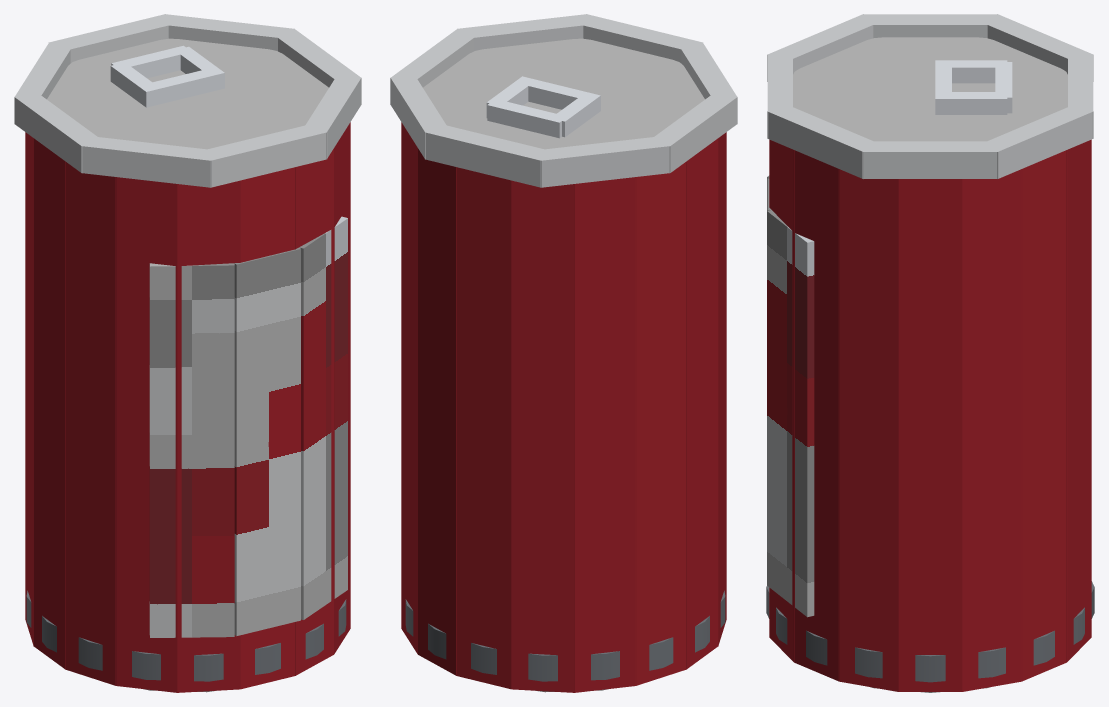
File: CMU3DDrinkEnergyDrinkCanDrinksExtraCloud.glb
The picture shows the model from 3 angles, left to right: view 1: azimuth 30°, elevation 25°; view 2: azimuth 150°, elevation 25°; view 3: azimuth 270°, elevation 25°; orthographic projection.
Parts seen in each view (by area): view 1: source front label tangent 0, hollow printed aluminium body 09, source front label tangent 1, hollow printed aluminium body 10, unbroken recessed aluminium lid, source front label tangent 2, hollow printed aluminium body 08, hollow printed aluminium body 11, hollow printed aluminium body 12, hollow printed aluminium body 13, raised upper seam 06, raised upper seam 07 (+13 smaller); view 2: hollow printed aluminium body 05, hollow printed aluminium body 06, hollow printed aluminium body 04, hollow printed aluminium body 07, hollow printed aluminium body 03, unbroken recessed aluminium lid, hollow printed aluminium body 08, hollow printed aluminium body 02, raised upper seam 04, raised upper seam 03, rolled bottom seam, hollow printed aluminium body 09 (+10 smaller); view 3: hollow printed aluminium body 00, hollow printed aluminium body 01, hollow printed aluminium body 15, hollow printed aluminium body 02, unbroken recessed aluminium lid, source front label tangent 2, hollow printed aluminium body 14, hollow printed aluminium body 03, raised upper seam 01, rolled bottom seam, hollow printed aluminium body 13, raised upper seam 02 (+10 smaller).
Part boxes in pixels (x1,y1,x2,y2): source front label tangent 0: [149, 263, 234, 637]; hollow printed aluminium body 09: [65, 161, 116, 685]; source front label tangent 1: [234, 247, 300, 636]; hollow printed aluminium body 10: [115, 177, 177, 692]; unbroken recessed aluminium lid: [47, 38, 328, 149]; source front label tangent 2: [299, 216, 347, 619]; hollow printed aluminium body 08: [33, 138, 65, 669]; hollow printed aluminium body 11: [177, 180, 240, 692]; hollow printed aluminium body 12: [240, 167, 295, 689]; hollow printed aluminium body 13: [295, 148, 333, 675]; raised upper seam 06: [81, 137, 217, 187]; raised upper seam 07: [201, 123, 327, 187]; hollow printed aluminium body 05: [511, 180, 574, 692]; hollow printed aluminium body 06: [574, 177, 636, 692]; hollow printed aluminium body 04: [456, 167, 511, 689]; hollow printed aluminium body 07: [635, 161, 686, 685]; hollow printed aluminium body 03: [418, 148, 456, 675]; unbroken recessed aluminium lid: [423, 38, 704, 149]; hollow printed aluminium body 08: [686, 138, 718, 669]; hollow printed aluminium body 02: [401, 123, 417, 654]; raised upper seam 04: [535, 136, 670, 187]; raised upper seam 03: [424, 123, 553, 187]; rolled bottom seam: [405, 590, 725, 681]; hollow printed aluminium body 09: [718, 132, 726, 646]; hollow printed aluminium body 00: [898, 179, 962, 691]; hollow printed aluminium body 01: [962, 169, 1022, 691]; hollow printed aluminium body 15: [838, 169, 898, 691]; hollow printed aluminium body 02: [1021, 150, 1067, 681]; unbroken recessed aluminium lid: [793, 37, 1067, 141]; source front label tangent 2: [767, 210, 814, 617]; hollow printed aluminium body 14: [793, 150, 839, 681]; hollow printed aluminium body 03: [1066, 140, 1091, 662]; raised upper seam 01: [862, 141, 998, 178]; rolled bottom seam: [766, 581, 1094, 682]; hollow printed aluminium body 13: [769, 140, 794, 662]; raised upper seam 02: [980, 104, 1093, 178].
Size of what is drawn, in the model's own units: 0.273 by 0.5055 by 0.273.
9 materials, 3 textured.
